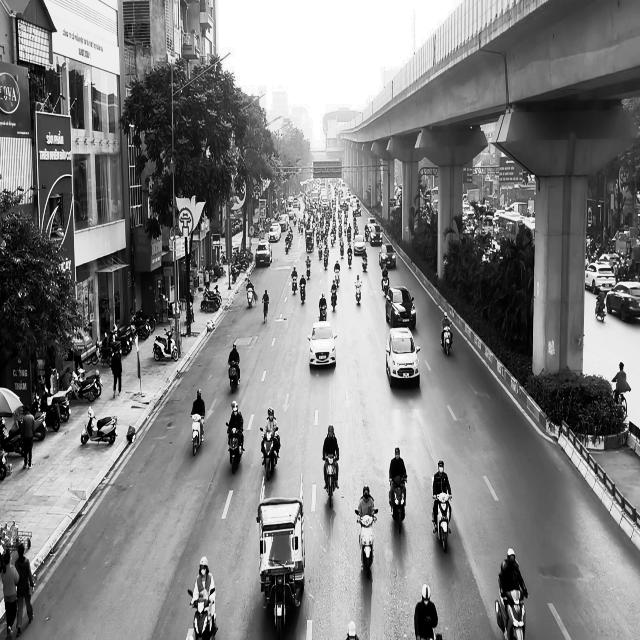car: (385, 327, 421, 388), (306, 320, 338, 368), (385, 285, 416, 329), (255, 240, 272, 267), (379, 243, 396, 268)
motorbike: (495, 576, 527, 640), (354, 508, 378, 579), (186, 588, 218, 639), (81, 405, 117, 445), (432, 492, 452, 552), (388, 476, 408, 534), (259, 426, 280, 480), (226, 422, 244, 474), (152, 328, 179, 361), (322, 453, 338, 508), (190, 412, 204, 456), (440, 314, 453, 356), (228, 361, 240, 393), (595, 296, 606, 321), (354, 280, 362, 305), (262, 300, 269, 322), (299, 282, 306, 303)
